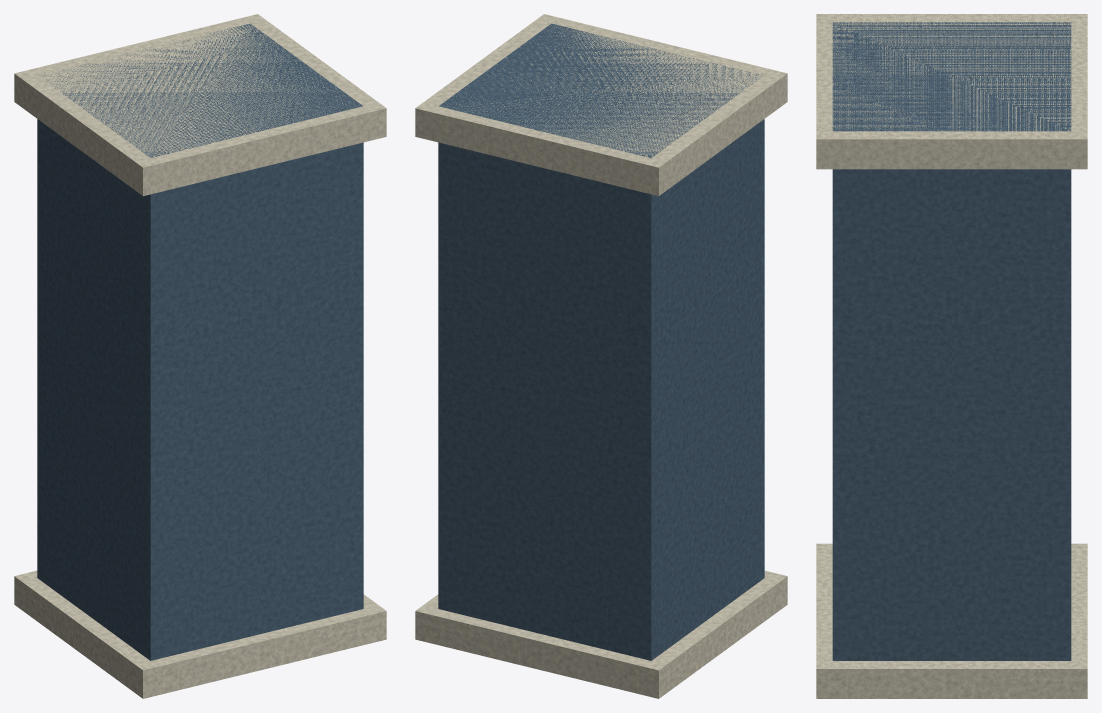
File: TUNN21RC_lod2.glb
The picture shows the model from 3 angles, left to right: view 1: azimuth 30°, elevation 25°; view 2: azimuth 150°, elevation 25°; view 3: azimuth 270°, elevation 25°; orthographic projection. The views are drawn at different scales.
Parts seen in each view (by area): view 1: TUNN21RC_LOD2; view 2: TUNN21RC_LOD2; view 3: TUNN21RC_LOD2.
Boxes of the visible parts, x1,y1,x2,y2 form: TUNN21RC_LOD2: (14,14,386,698); TUNN21RC_LOD2: (415,14,787,698); TUNN21RC_LOD2: (816,14,1087,698).
Size of the model in its own units: 1.43 by 3 by 1.31.
2 materials, 2 textured.
